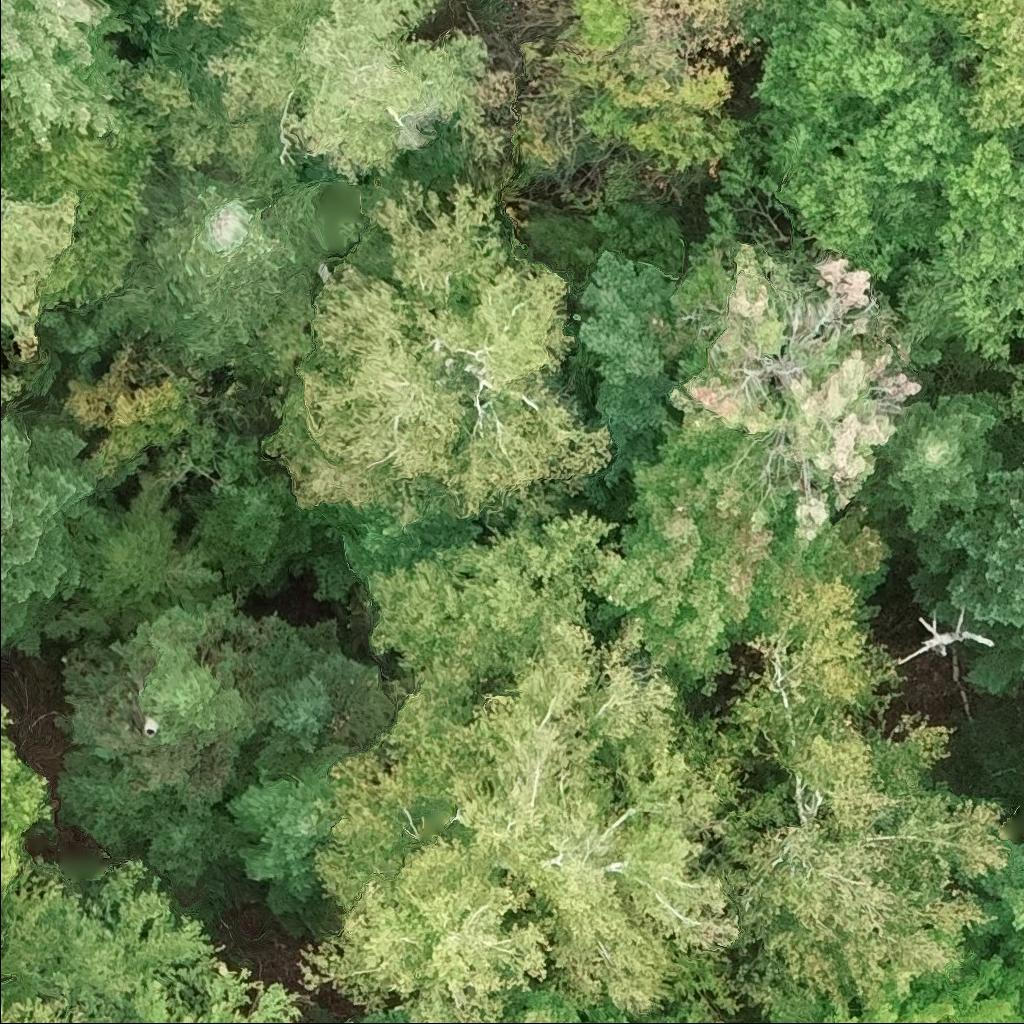crown: (300, 607, 757, 1023), (694, 575, 1018, 1023), (263, 174, 616, 531), (745, 0, 1023, 374), (667, 239, 926, 549), (597, 421, 890, 683), (203, 0, 487, 181), (365, 493, 629, 684), (98, 152, 322, 363), (0, 854, 231, 1011), (863, 384, 1018, 578), (907, 445, 1023, 693), (0, 396, 108, 654), (60, 342, 221, 493), (113, 606, 266, 747), (0, 953, 304, 1023), (222, 746, 347, 910), (0, 0, 133, 148), (253, 612, 371, 771), (818, 942, 1023, 1023), (184, 469, 317, 587), (0, 185, 80, 365), (917, 0, 1023, 130), (0, 704, 51, 902), (977, 840, 1023, 975), (898, 606, 996, 668), (156, 0, 232, 29), (999, 362, 1023, 424), (0, 365, 25, 417), (504, 1005, 572, 1023)
